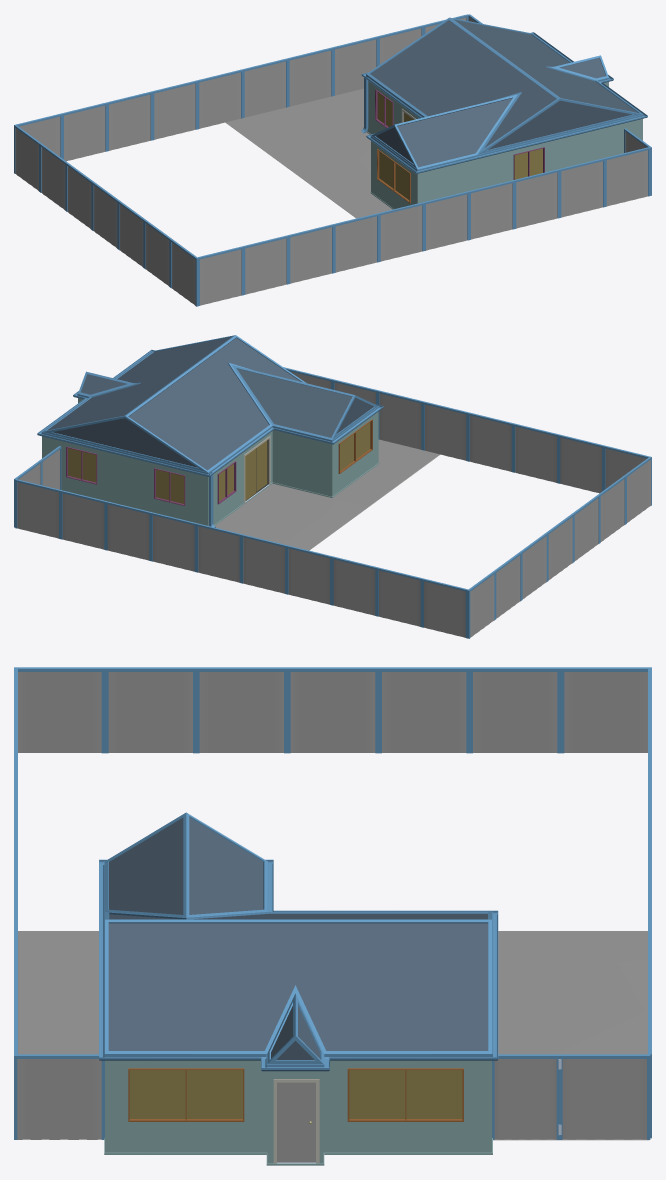
File: dummyHouseGeo_1.fbx
3 renders of one model, top to bottom at view 1: azimuth 30°, elevation 25°; view 2: azimuth 150°, elevation 25°; view 3: azimuth 270°, elevation 25°, orthographic. The views are drawn at different scales.
Visible parts, largest first — view 1: roof, concrete, outerWalls, fence4 (×3), fence1 (×3), fence3 (×3), fence6 (×3), fence5 (×3), fence7 (×3), fence8 (×2), fence9 (×2), fence10 (×2) (+7 smaller); view 2: roof, outerWalls, concrete, fence3 (×3), fence1 (×3), fence4 (×3), fence5 (×3), fence7 (×3), fence8 (×2), fence6 (×3), fence10, fence11 (+11 smaller); view 3: roof, concrete, outerWalls, fence3, fence1, fence2, fence4, fence5, backGate, frontFence1, fence6, fence7 (+7 smaller).
Part boxes in pixels (<box>): roof: <box>367,17,642,169</box>; concrete: <box>225,88,392,218</box>; outerWalls: <box>367,81,642,208</box>; fence4 (×3): <box>66,69,424,261</box>; fence1 (×3): <box>61,102,288,294</box>; fence3 (×3): <box>92,80,378,272</box>; fence6 (×3): <box>14,47,514,239</box>; fence5 (×3): <box>40,58,469,250</box>; fence7 (×3): <box>16,113,243,306</box>; fence8 (×2): <box>106,91,333,283</box>; fence9 (×2): <box>332,36,559,228</box>; fence10 (×2): <box>377,25,604,217</box>; roof: <box>42,335,378,472</box>; outerWalls: <box>42,398,378,525</box>; concrete: <box>215,439,440,550</box>; fence3 (×3): <box>286,412,573,605</box>; fence1 (×3): <box>377,434,625,627</box>; fence4 (×3): <box>241,401,547,600</box>; fence5 (×3): <box>196,390,521,619</box>; fence7 (×3): <box>422,445,651,638</box>; fence8 (×2): <box>331,423,559,616</box>; fence6 (×3): <box>151,379,495,638</box>; fence10: <box>60,490,106,550</box>; fence11: <box>15,479,61,538</box>; roof: <box>105,812,491,1063</box>; concrete: <box>18,931,648,1140</box>; outerWalls: <box>105,1060,491,1163</box>; fence3: <box>287,667,378,753</box>; fence1: <box>105,667,196,753</box>; fence2: <box>196,667,287,753</box>; fence4: <box>378,667,469,753</box>; fence5: <box>469,667,560,753</box>; backGate: <box>559,1054,650,1139</box>; frontFence1: <box>14,1054,104,1139</box>; fence6: <box>561,667,651,753</box>; fence7: <box>14,667,104,753</box>.
Size of the model in its own units: 21.62 by 3.98 by 14.
